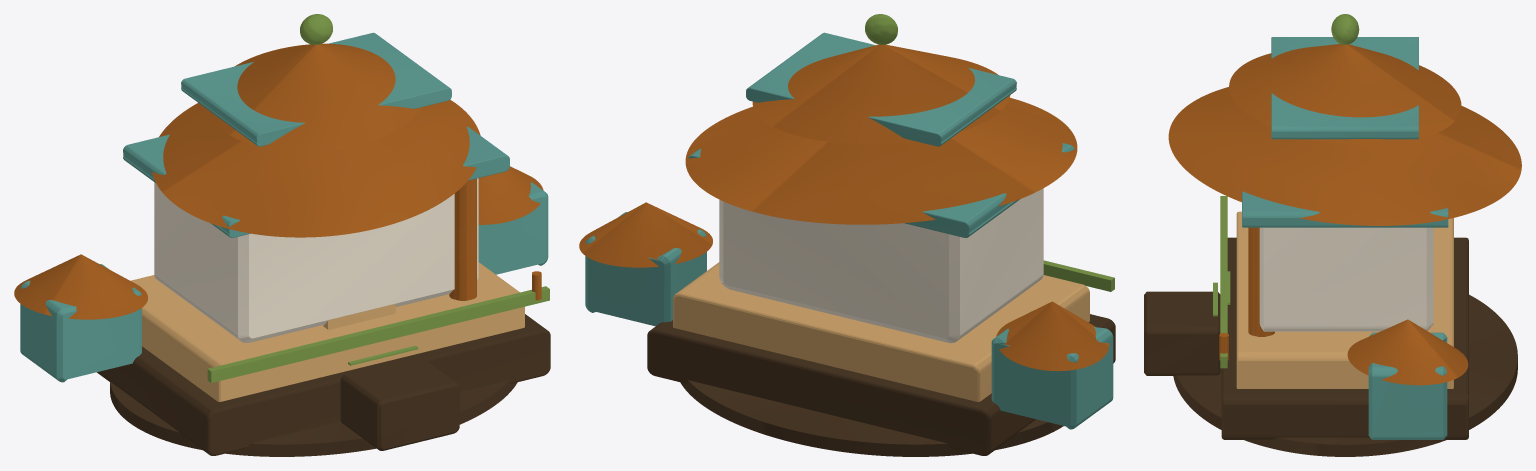
Rendered from 0807_中国建筑图鉴_祈年殿.glb.
3 renders of one model, left to right at view 1: azimuth 30°, elevation 25°; view 2: azimuth 150°, elevation 25°; view 3: azimuth 270°, elevation 25°, orthographic. The views are drawn at different scales.
Visible parts, largest first — view 1: card_0807; view 2: card_0807; view 3: card_0807.
Part boxes in pixels (<box>): card_0807: <box>14,14,550,456</box>; card_0807: <box>579,14,1115,456</box>; card_0807: <box>1144,14,1521,456</box>.
Size of the model in its own units: 1.48 by 1 by 0.9707.
